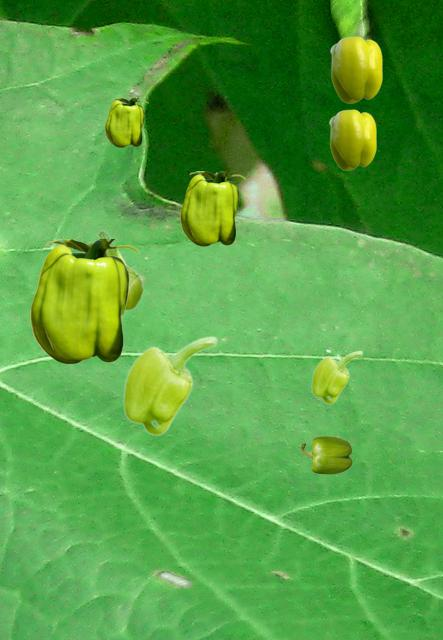bell_pepper: (30, 239, 138, 363), (122, 335, 217, 435), (180, 171, 244, 245), (95, 230, 143, 313), (330, 36, 381, 102), (329, 109, 375, 169), (311, 350, 362, 403), (105, 98, 147, 146), (300, 436, 351, 473)
